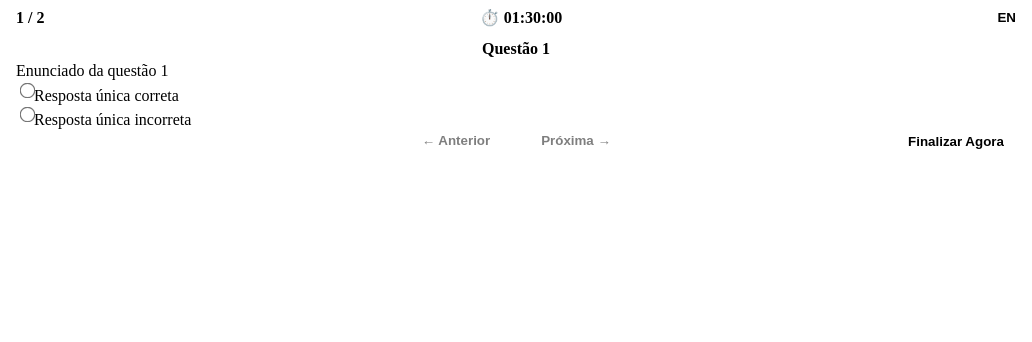
Test: no simulado completo, marca como incorreta a resposta que omitir uma opção correta
The width and height of the screenshot is (1032, 342).
Step 1. Click the text "Resposta única correta" → (106, 95), box [34,87,179,104]
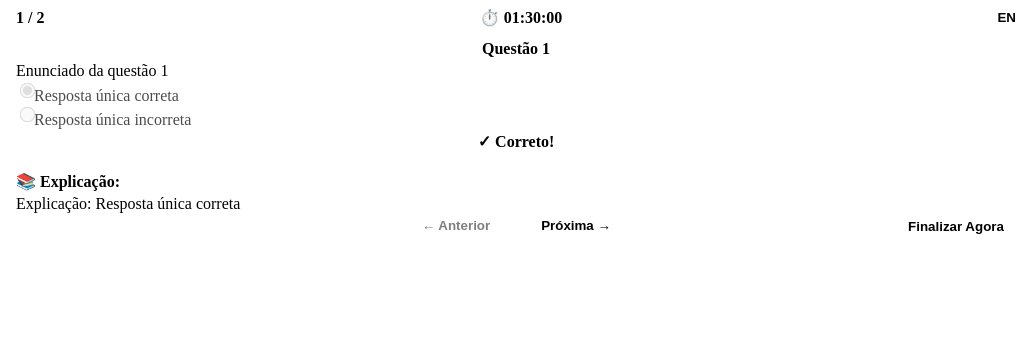
Step 2. Click the button "Próxima →" → (576, 226), box [516,218,636,233]
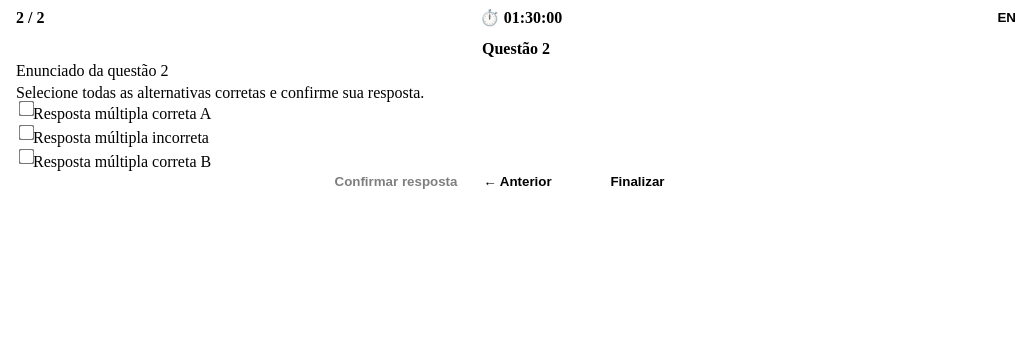
expect the text "Enunciado da questão 2" is shown: met, box [16,62,168,79]
Step 3. Click the checkbox labelled "Resposta múltipla correta A" → (26, 108), box [19,101,34,116]
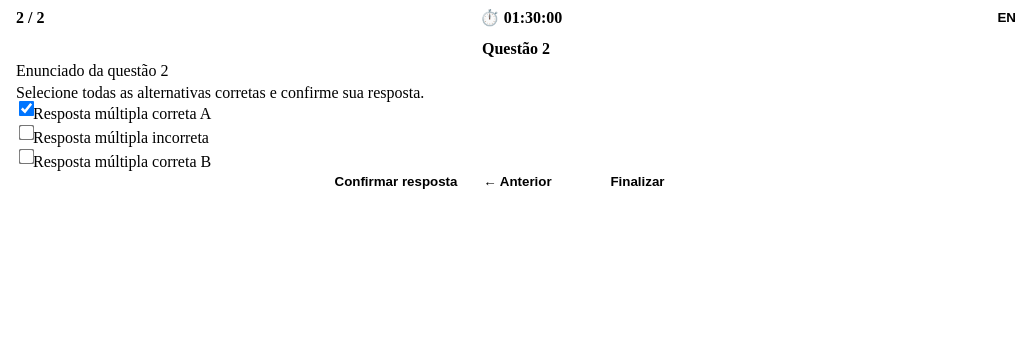
Step 4. Click the button "Confirmar resposta" → (396, 181), box [334,174,458,189]
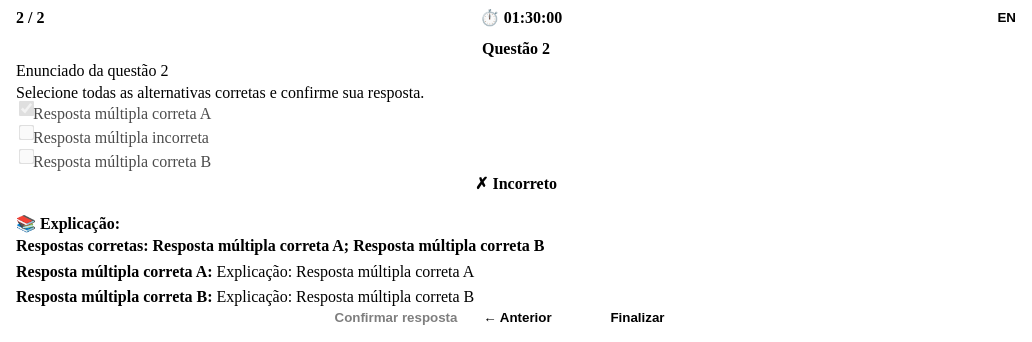
expect the text "✗ Incorreto" is shown: met, box [475,175,557,192]
Step 5. Click the button "Finalizar" → (638, 317), box [578,310,698,325]
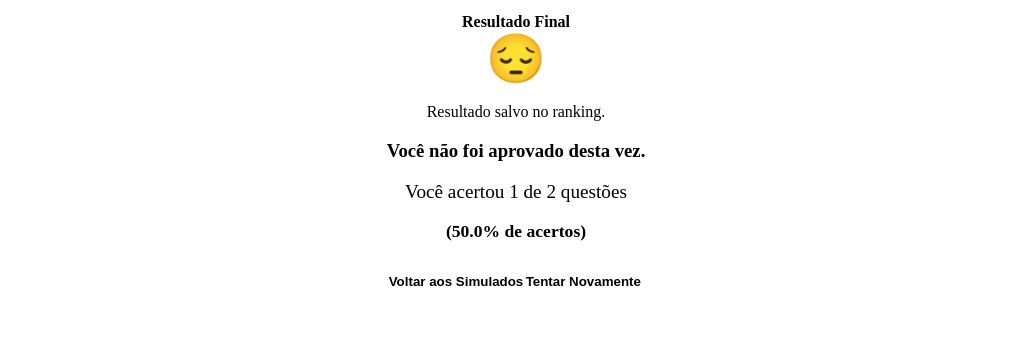
expect the text "Você acertou 1 de 2 questões" is shown: met, box [405,181,627,202]
expect the text "Resultado salvo no ranking." is shown: met, box [427,103,605,120]
